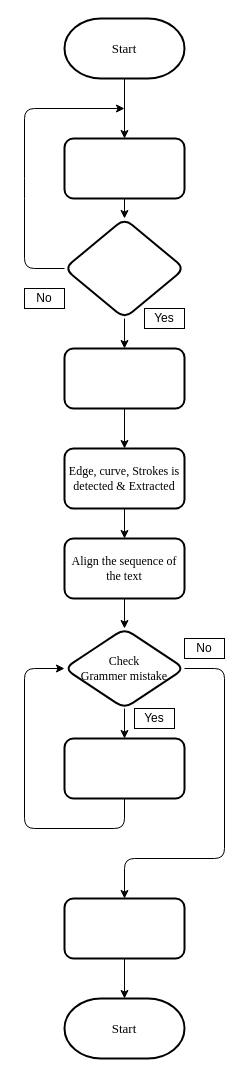
Image size: 250x1076. Some labels were removed from this diagram. Each missing label, with the box of its shape:
Create Pdf using FPDF: (63, 897, 185, 959)
Grammer correction: (63, 737, 185, 799)
If Picture quality is good: (63, 217, 185, 319)
Input images of notes: (63, 137, 185, 199)
Resizing, Greyscaling & Enhancing: (63, 347, 185, 409)
